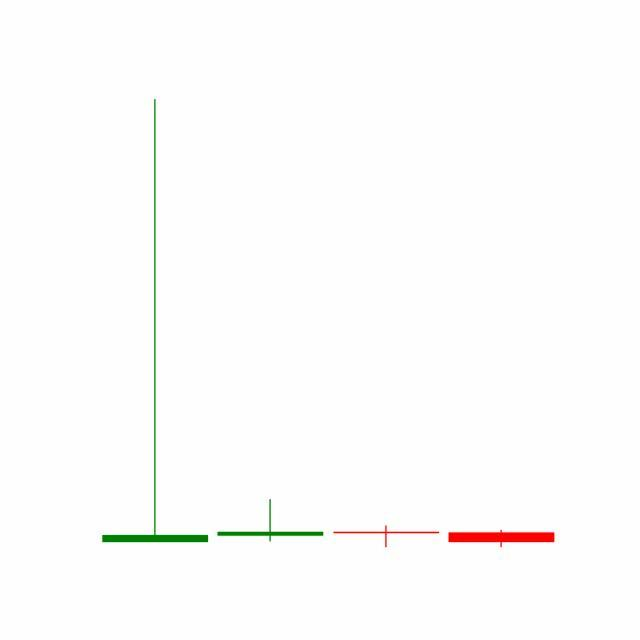Dragonfly Doji: (329, 526, 445, 549)
